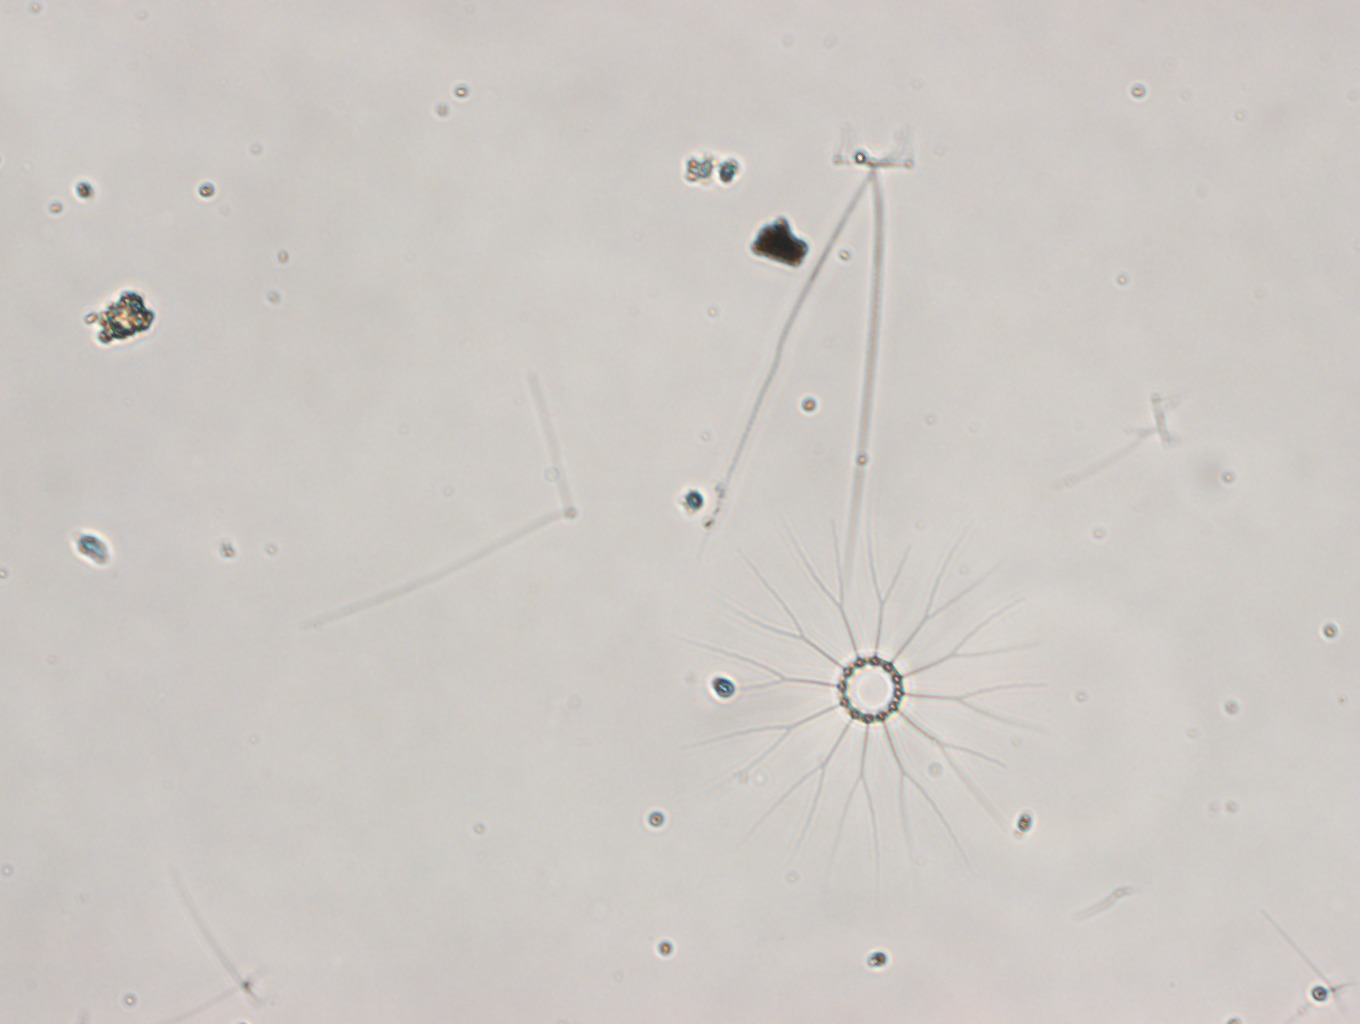bacteriastrum: (688, 516, 1071, 895)
chaetoceros: (703, 113, 918, 587)
